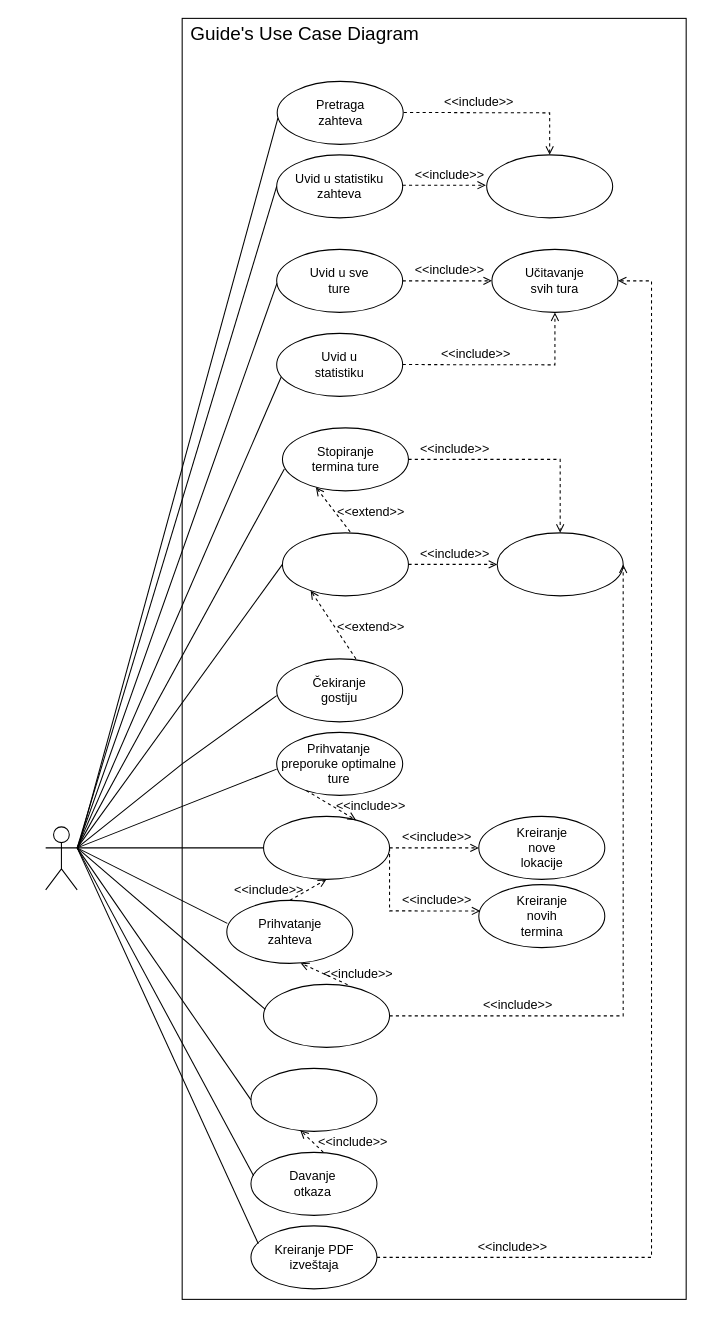
Image size: 705x1318. Some labels were removed from this diagram. Here are the shapes that lost their labels. From the top down, the centre of each, then its label:
At point (549, 186): "Učitavanje svih zahteva za ture".
At point (344, 564): "Pokretanje termina ture".
At point (559, 564): "Menjanje statusa termina ture".
At point (61, 858): "Prijavljeni vodič".
At point (326, 847): "Kreiranje nove ture".
At point (326, 1015): "Prihvatanje dela zahteva za kompleksnu turu".
At point (313, 1099): "Otkazivanje termina ture".
